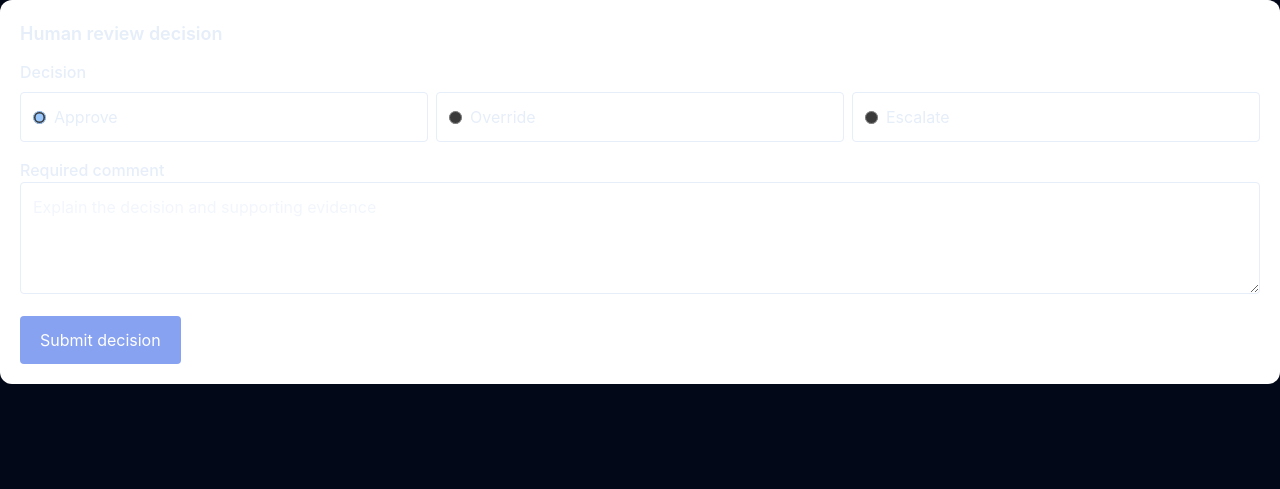
Test: requires a different override action
Click the radio button labelled "override" at coordinates (456, 117), box 449,110 -> 462,124
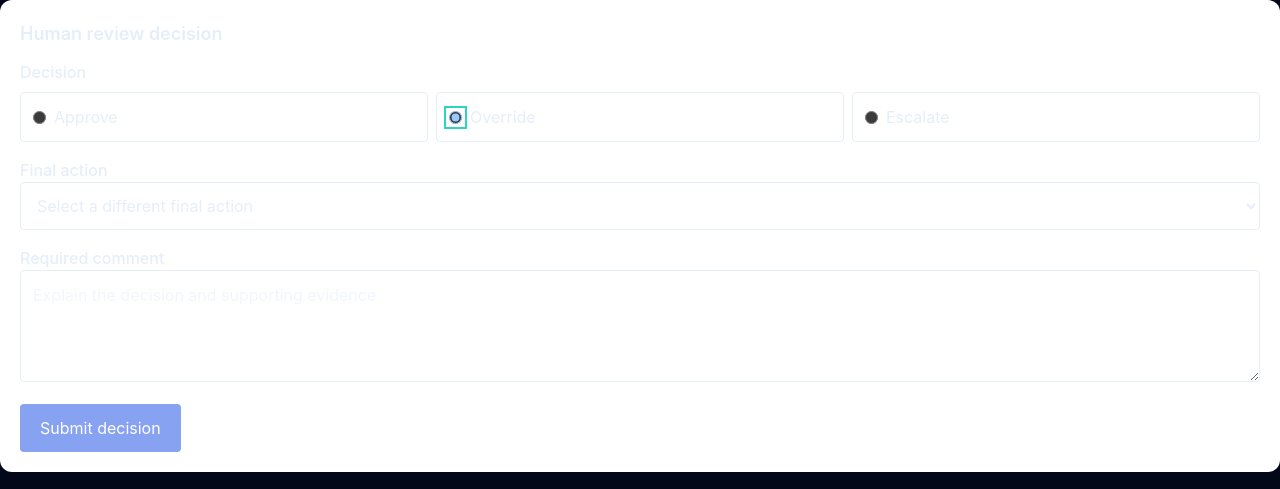
Type "Different action warranted" into the text box with placeholder "Explain the decision and supporting evidence" at coordinates (640, 326), box 20,270 -> 1260,382
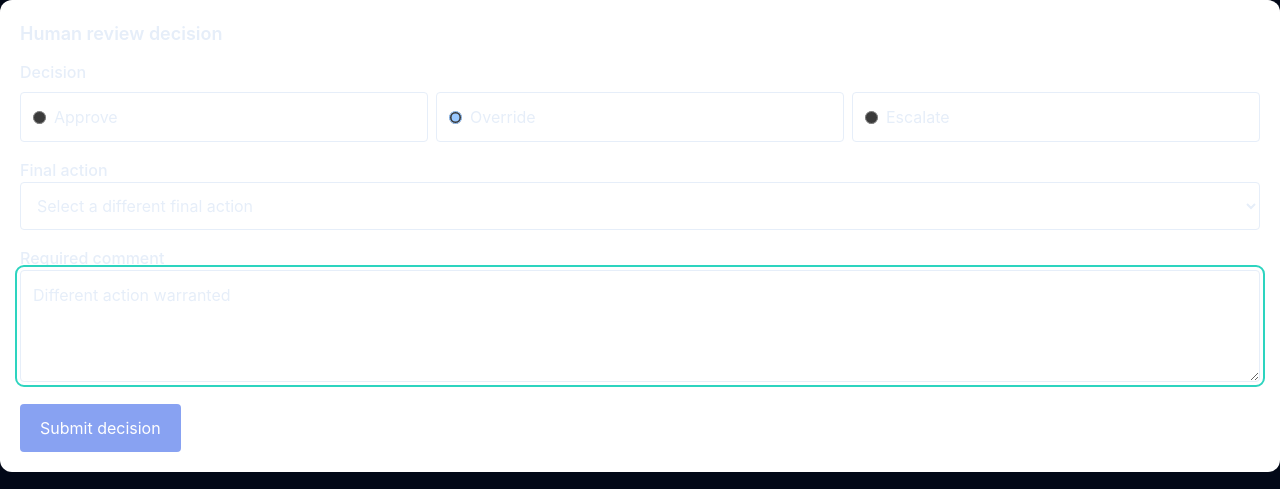
expect the button "Submit decision" is disabled: met, box 20,404 -> 181,452
Select "ENHANCED MONITORING" in the dropdown labelled "Final action" at coordinates (640, 206), box 20,182 -> 1260,230
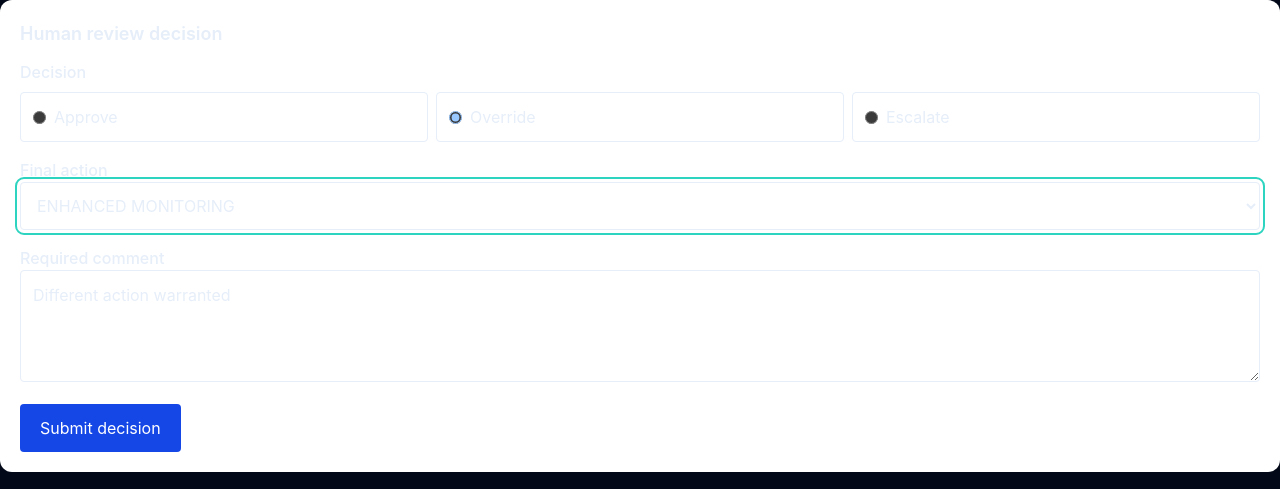
expect the button "Submit decision" is enabled: met, box 20,404 -> 181,452
